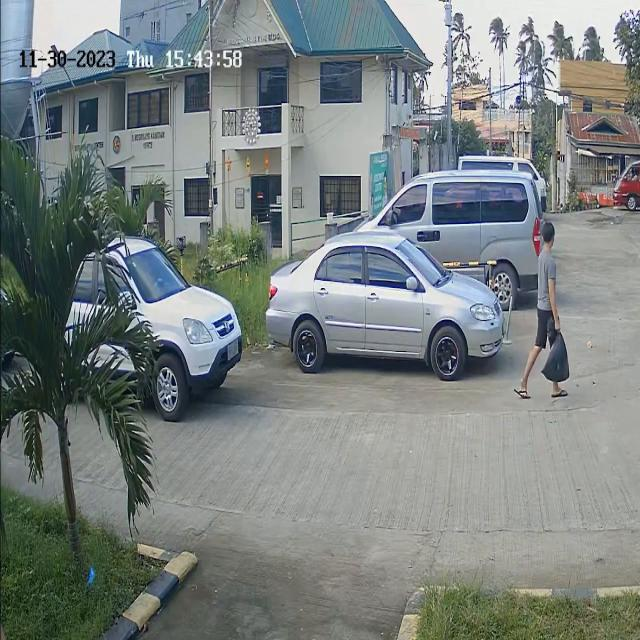garbage: (544, 336, 572, 381)
person: (535, 219, 563, 319)
